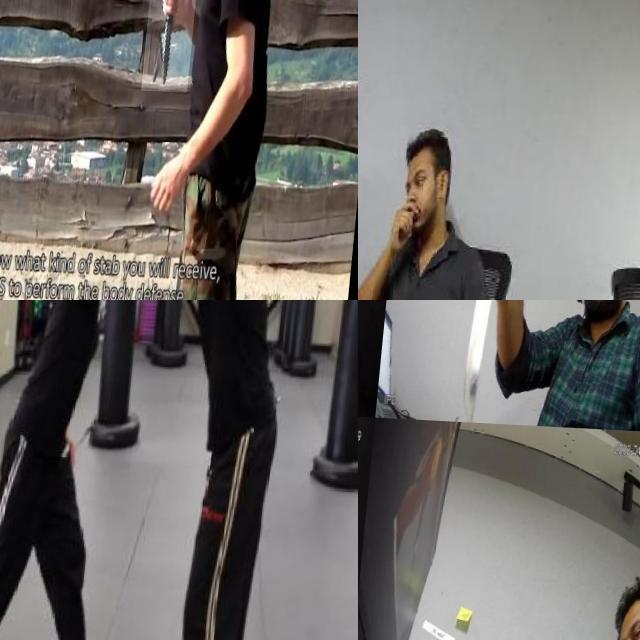-: (463, 300, 518, 418), (148, 0, 204, 87), (120, 300, 202, 337), (358, 300, 382, 345), (358, 594, 376, 640)
